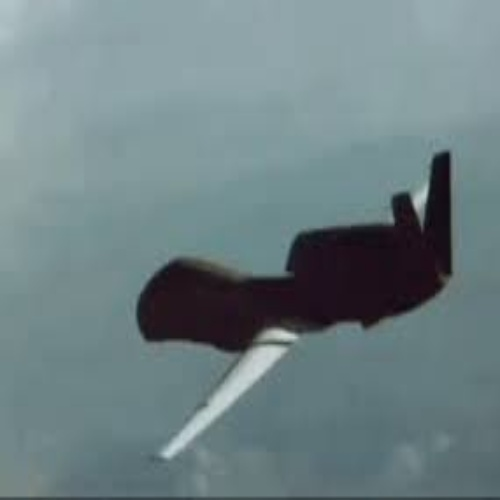uav467: (132, 148, 457, 461)
